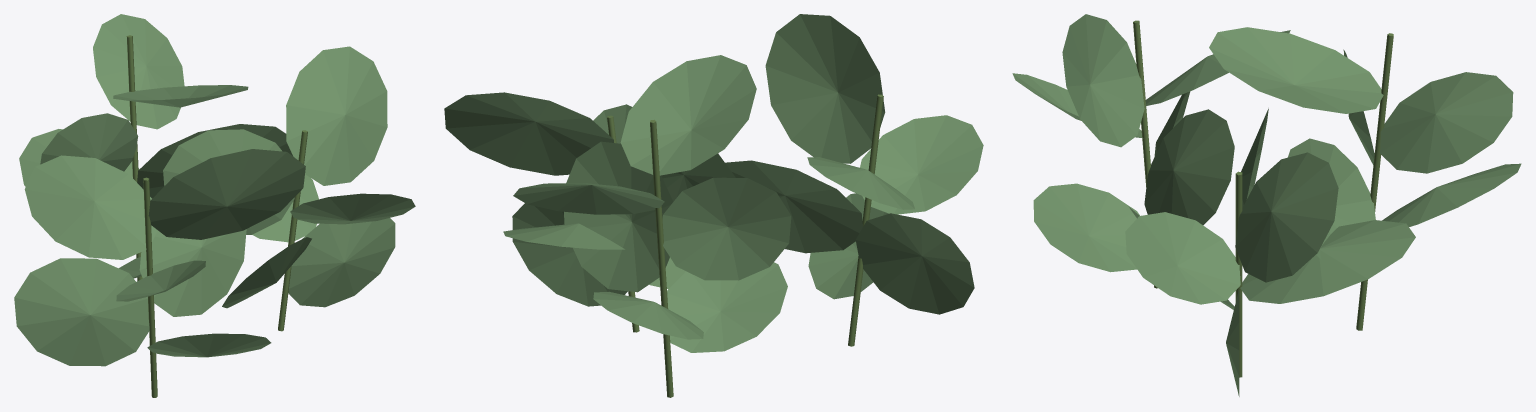
Rendered from calathea-makoyana.glb.
The picture shows the model from 3 angles, left to right: view 1: azimuth 30°, elevation 25°; view 2: azimuth 150°, elevation 25°; view 3: azimuth 270°, elevation 25°; orthographic projection. The views are drawn at different scales.
Visible parts, largest first — view 1: Species leaves, Species stems; view 2: Species leaves, Species stems; view 3: Species leaves, Species stems.
Part boxes in pixels (<box>): Species leaves: <box>14,14,415,366</box>; Species stems: <box>126,35,307,397</box>; Species leaves: <box>444,14,983,352</box>; Species stems: <box>607,94,883,397</box>; Species leaves: <box>1012,14,1521,396</box>; Species stems: <box>1133,20,1393,377</box>.
Bounding box in the file's own units: 0.621 × 0.3657 × 0.569.
